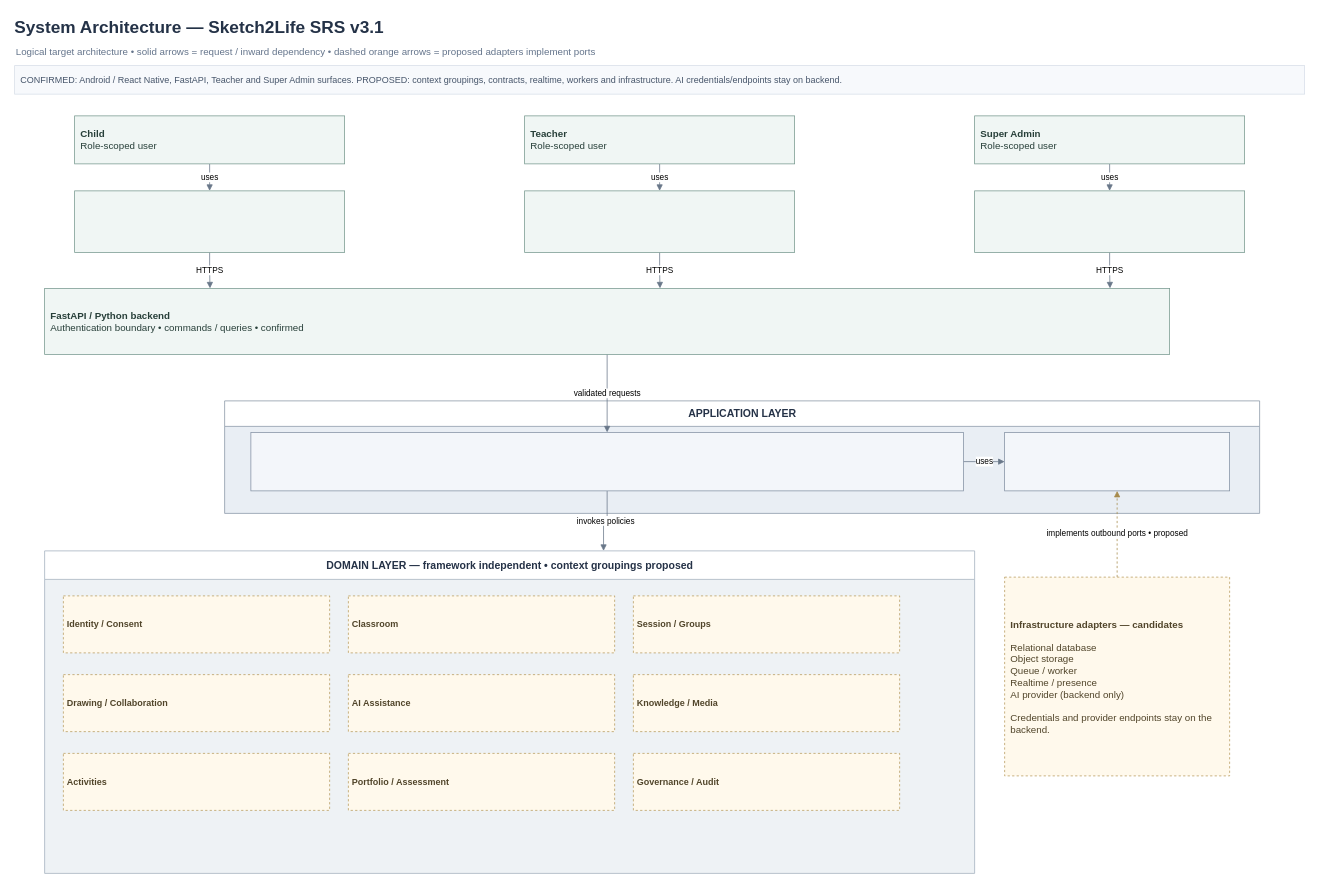
This 1319x887 diagram has some shape labels left out. The centre of each missing label's shape, as x and y in pixels:
Application use cases Orchestration • authorization checks: the point at 606,461
Child Android app React Native / TypeScript • confirmed: the point at 209,221
Outbound ports Repository • artifact • job model • identity • realtime: the point at 1117,461
Super Admin surface Scope confirmed • framework TBD: the point at 1109,221
Teacher Desktop Surface confirmed • framework TBD: the point at 659,221
